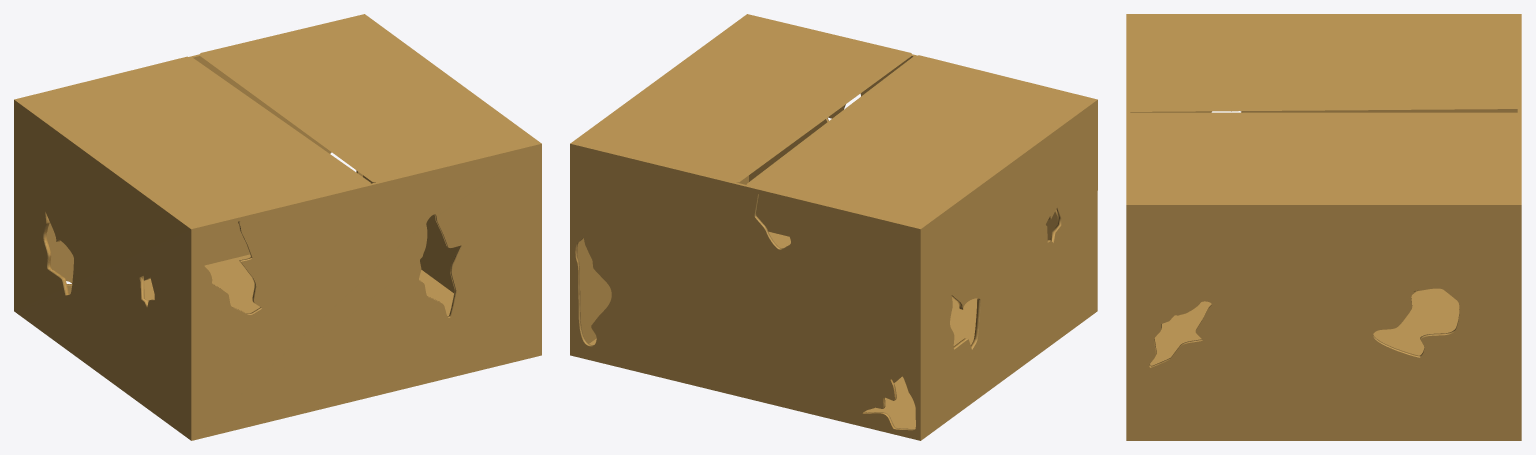
The model's file is karton.obj.
3 views of the same model, side by side, from view 1: azimuth 30°, elevation 25°; view 2: azimuth 150°, elevation 25°; view 3: azimuth 270°, elevation 25° (orthographic). The views are drawn at different scales.
Visible parts, largest first — view 1: kiste_ID9.002; view 2: kiste_ID9.002; view 3: kiste_ID9.002.
Part boxes in pixels (x1,y1,x2,y2): kiste_ID9.002: (14,14,541,440); kiste_ID9.002: (570,14,1097,440); kiste_ID9.002: (1126,14,1521,440).
Size of the model in its own units: 4.99 by 2.89 by 4.37.
Materials: 1 (1 with a texture image).
